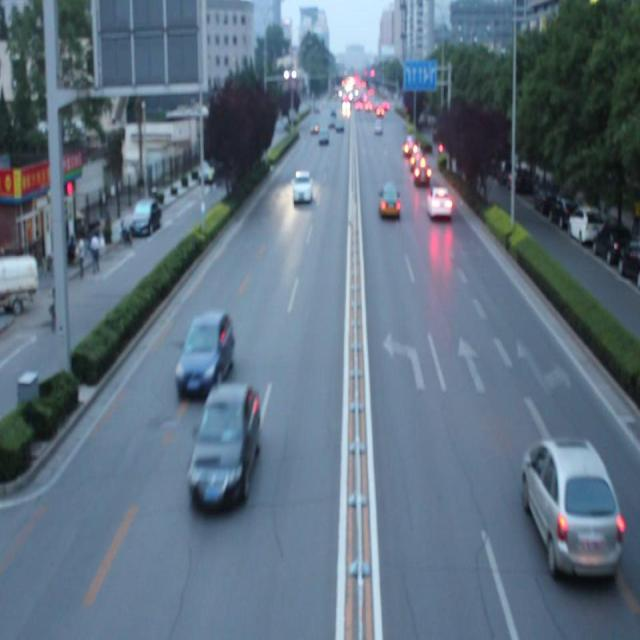car: (523, 436, 619, 576), (188, 383, 258, 506), (175, 309, 233, 397), (427, 183, 451, 218), (378, 182, 400, 217), (291, 169, 313, 204), (412, 157, 432, 184)
